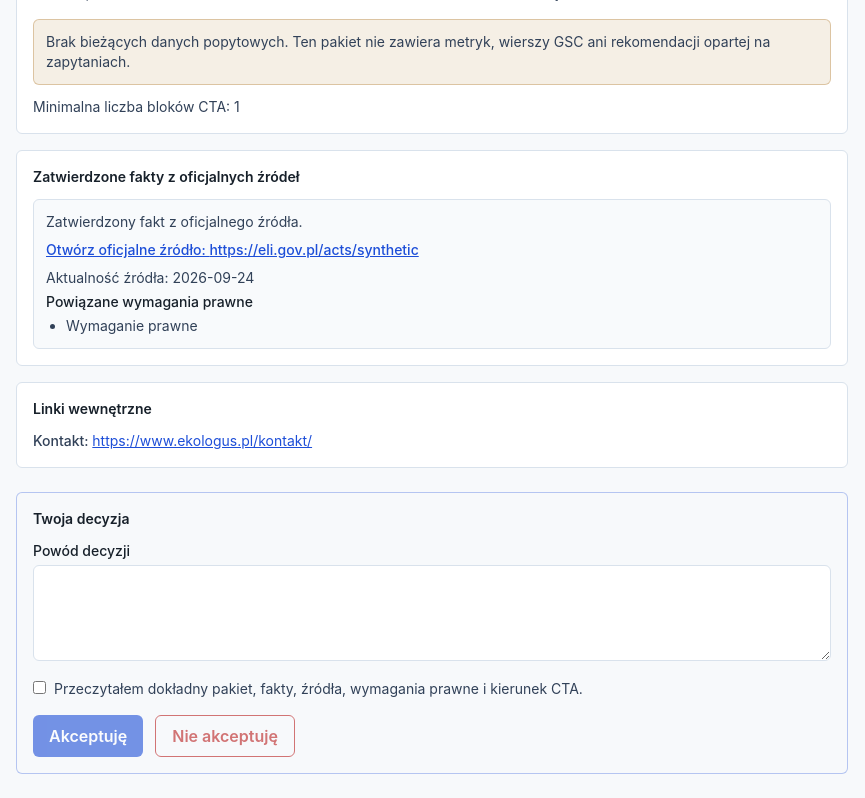
Test: v3 research packet ActionObject review › stops acceptance when validate throws
(page scrolled)
Type "Potwierdzam pełny odczyt dokładnego pakietu." into the text box labelled "Powód decyzji".
click(432, 613); type("Potwierdzam pełny odczyt dokładnego pakietu.")  # box [33, 565, 831, 661]
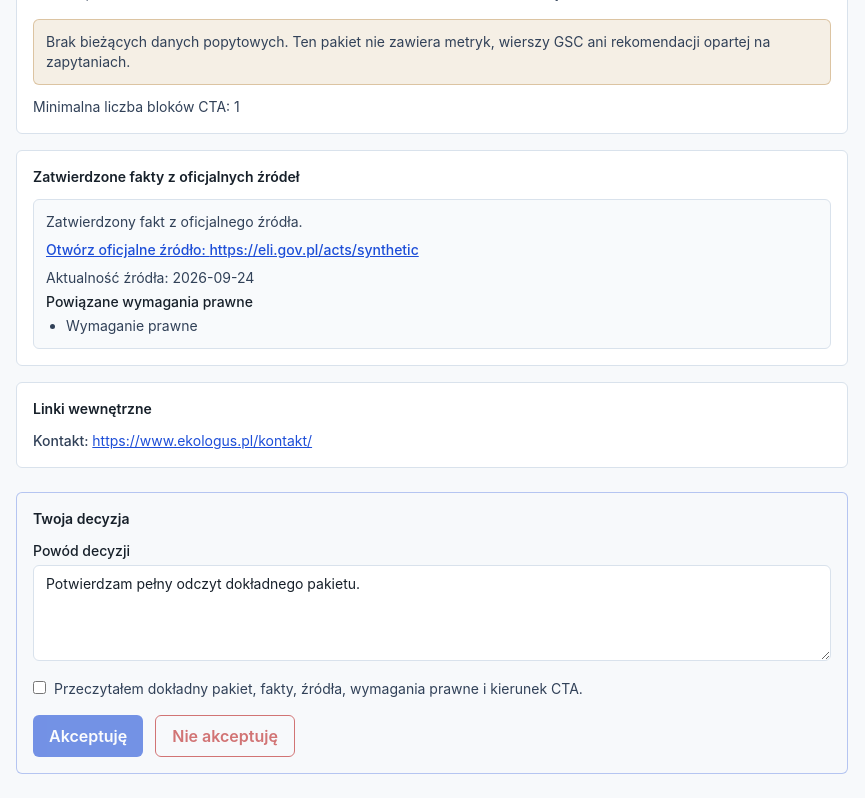
Click the checkbox labelled "Przeczytałem dokładny pakiet".
click(40, 688)  # box [33, 681, 46, 694]
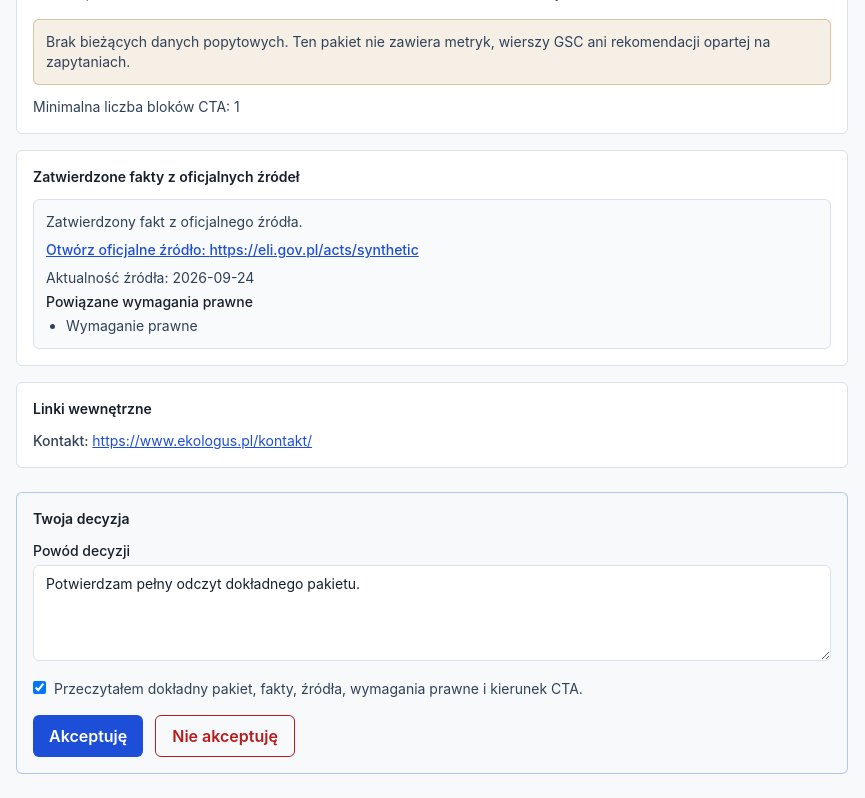
Click the button "Akceptuję".
click(88, 736)  # box [33, 715, 143, 757]
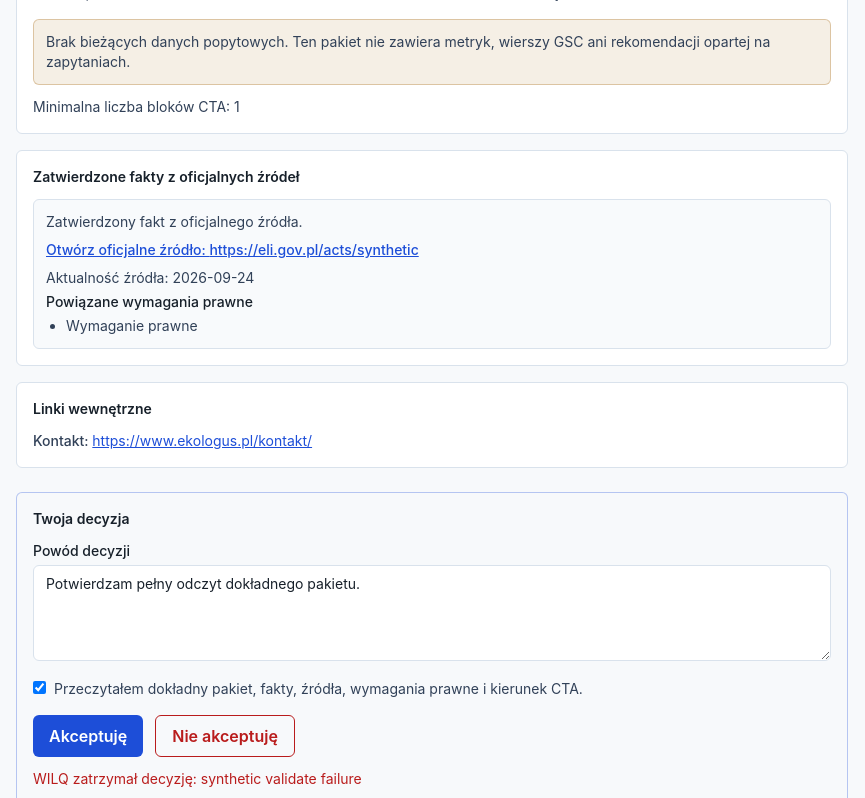
Check: the message "WILQ zatrzymał decyzję: synthetic validate failure" is shown, box [33, 770, 362, 787]
